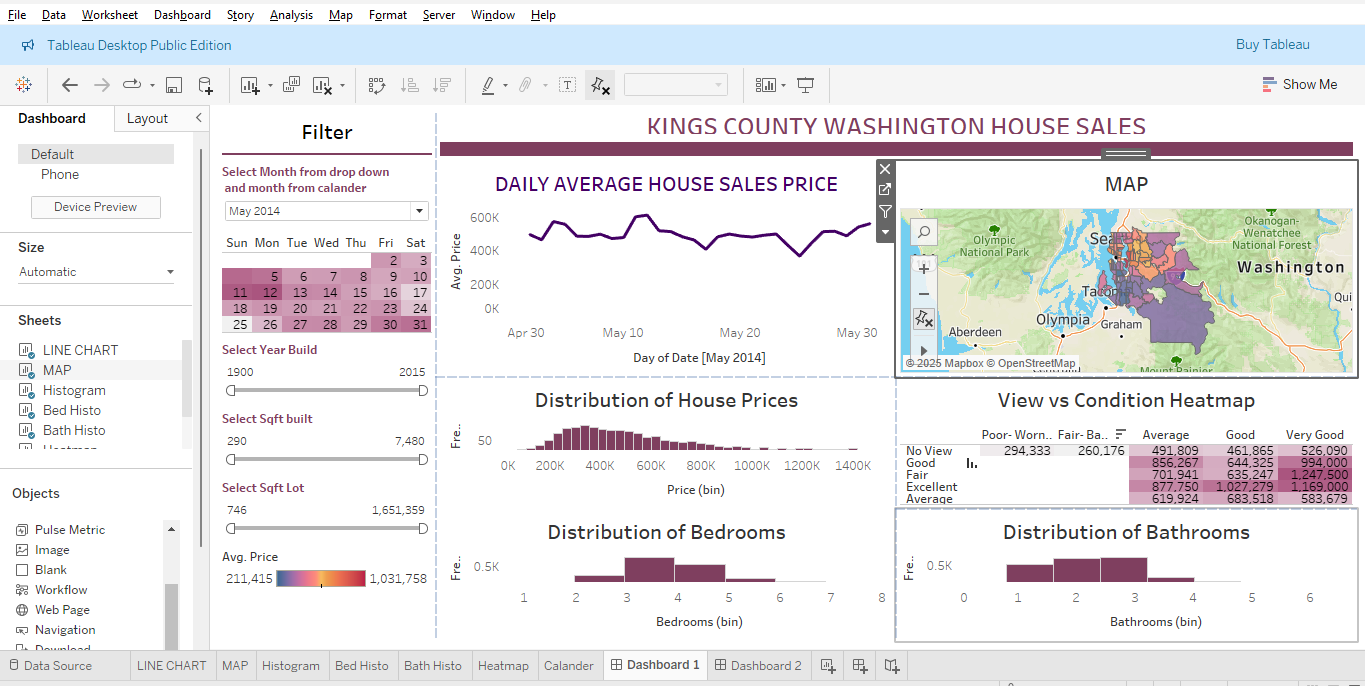

Layout of this report page (visuals, bound fields, positions):
{"tool":"tableau","page":{"name":"Dashboard 1","canvas":[1000,1000],"units":"permille","ordinal":0},"visuals":[{"type":"text","box":[6.9,14.7,188.4,66.2]},{"type":"text","box":[195.3,14.7,797.8,46.3]},{"type":"blank","box":[195.3,61,797.8,41.3]},{"type":"blank","box":[6.9,80.9,188.4,18.4]},{"type":"filter","title":"Calander","param":"[federated.0j36n6l0d0xmul11ji7vw0tlgr6z].[my:date:ok]","box":[6.9,99.3,188.4,126.8]},{"type":"worksheet","title":"LINE CHART","mark":"Automatic","rows":["price"],"cols":["date"],"box":[195.3,102.3,398.8,397.7]},{"type":"worksheet","title":"MAP","mark":"Automatic","box":[594.1,102.3,399,397.7]},{"type":"worksheet","title":"Calander","mark":"Square","rows":["date"],"cols":["date"],"box":[6.9,226.1,188.4,200.3]},{"type":"filter","title":"Calander","param":"[federated.0j36n6l0d0xmul11ji7vw0tlgr6z].[none:yr_built:qk]","box":[6.9,426.4,188.4,126.8]},{"type":"worksheet","title":"Histogram","mark":"Automatic","rows":["price"],"cols":["Price (bin)"],"box":[195.3,500,398.9,242.6]},{"type":"worksheet","title":"Heatmap","mark":"Square","rows":["view"],"cols":["condition"],"box":[594.2,500,398.9,242.5]},{"type":"filter","title":"Calander","param":"[federated.0j36n6l0d0xmul11ji7vw0tlgr6z].[none:sqft_living:qk]","box":[6.9,553.3,188.4,126.8]},{"type":"filter","title":"Calander","param":"[federated.0j36n6l0d0xmul11ji7vw0tlgr6z].[none:sqft_lot:qk]","box":[6.9,680.1,188.4,126.8]},{"type":"worksheet","title":"Bath Histo","mark":"Automatic","rows":["bathrooms"],"cols":["Bathrooms (bin)"],"box":[594.2,742.5,398.9,242.8]},{"type":"worksheet","title":"Bed Histo","mark":"Automatic","rows":["bedrooms"],"cols":["Bedrooms (bin)"],"box":[195.3,742.6,398.9,242.7]},{"type":"legend","title":"MAP","param":"[federated.0j36n6l0d0xmul11ji7vw0tlgr6z].[avg:price:qk]","box":[6.9,807,188.4,119.5]},{"type":"blank","box":[6.9,926.4,188.4,58.9]}]}

Visuals, with their boxes on the dashboard's canvas, which has no fixed pixel size, in thousandths of its width and height (x1, y1, x2, y2). These are canvas units, not pixel positions in the 1365x686 screenshot, which may show the page scaled, cropped or inside an application window:
text: <box>7,15,195,81</box>
text: <box>195,15,993,61</box>
blank: <box>195,61,993,102</box>
blank: <box>7,81,195,99</box>
"Calander" filter: <box>7,99,195,226</box>
"LINE CHART" worksheet: <box>195,102,594,500</box>
"MAP" worksheet: <box>594,102,993,500</box>
"Calander" worksheet (Square marks): <box>7,226,195,426</box>
"Calander" filter: <box>7,426,195,553</box>
"Histogram" worksheet: <box>195,500,594,743</box>
"Heatmap" worksheet (Square marks): <box>594,500,993,742</box>
"Calander" filter: <box>7,553,195,680</box>
"Calander" filter: <box>7,680,195,807</box>
"Bath Histo" worksheet: <box>594,742,993,985</box>
"Bed Histo" worksheet: <box>195,743,594,985</box>
"MAP" legend: <box>7,807,195,926</box>
blank: <box>7,926,195,985</box>
